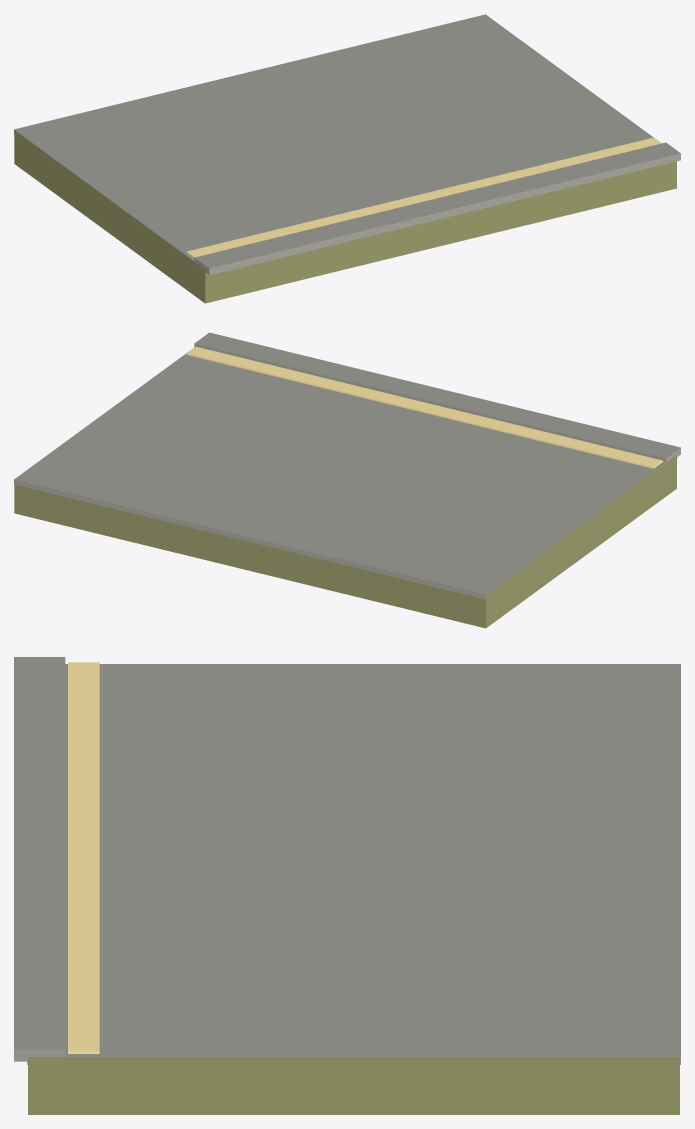
Rendered from SM_KitAnden_F7_v4_LOD1.fbx.
3 renders of one model, top to bottom at view 1: azimuth 30°, elevation 25°; view 2: azimuth 150°, elevation 25°; view 3: azimuth 270°, elevation 25°, orthographic. The views are drawn at different scales.
Parts seen in each view (by area): view 1: SM_kit_anden_v4_LOD1; view 2: SM_kit_anden_v4_LOD1; view 3: SM_kit_anden_v4_LOD1.
Part boxes in pixels (<box>): SM_kit_anden_v4_LOD1: <box>14,14,680,303</box>; SM_kit_anden_v4_LOD1: <box>14,332,680,628</box>; SM_kit_anden_v4_LOD1: <box>14,657,680,1114</box>.
Bounding box in the file's own units: 9.98 × 0.77 × 7.16.
